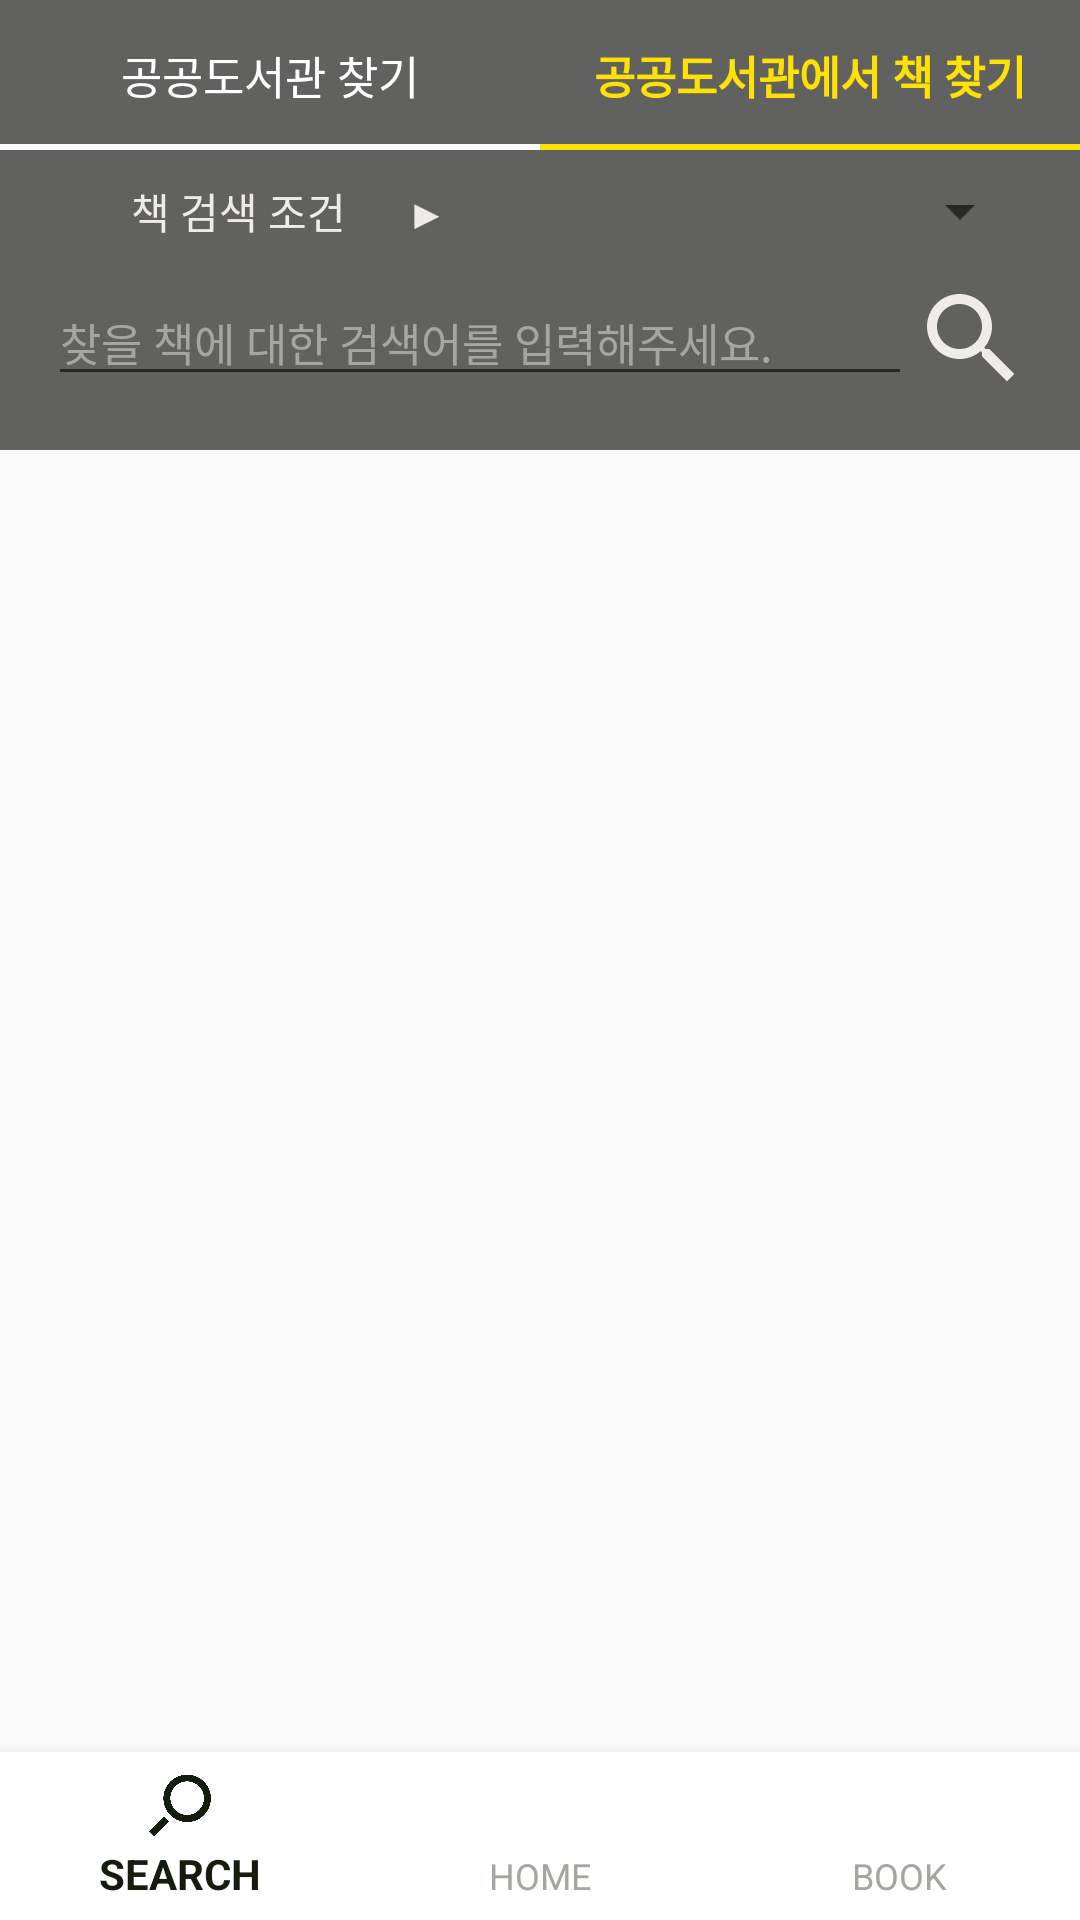

Icons on this 1080px×1920px Android screen, each with its box as [x1,y1,x2,y2]:
search: [927,294,1014,381]
